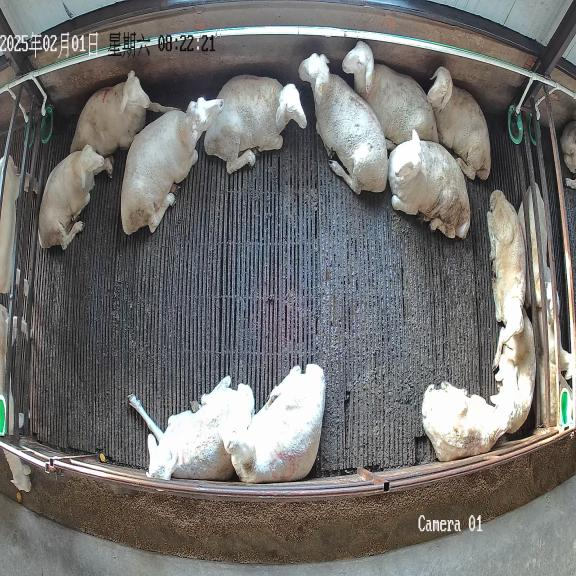lying: (121, 97, 224, 234), (128, 376, 255, 481), (298, 53, 387, 194), (220, 364, 325, 483), (342, 40, 439, 150), (204, 74, 306, 173), (70, 70, 174, 156), (388, 130, 470, 238), (38, 145, 112, 249), (487, 190, 526, 370), (428, 66, 490, 179)
